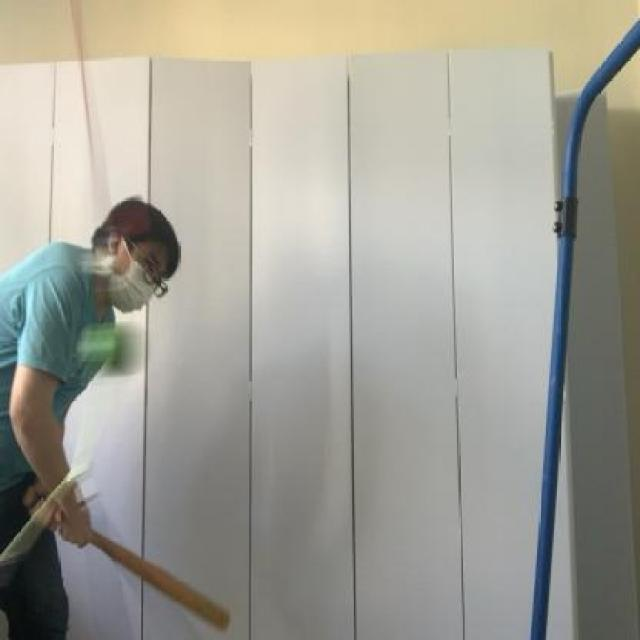baseball: (72, 319, 142, 387)
